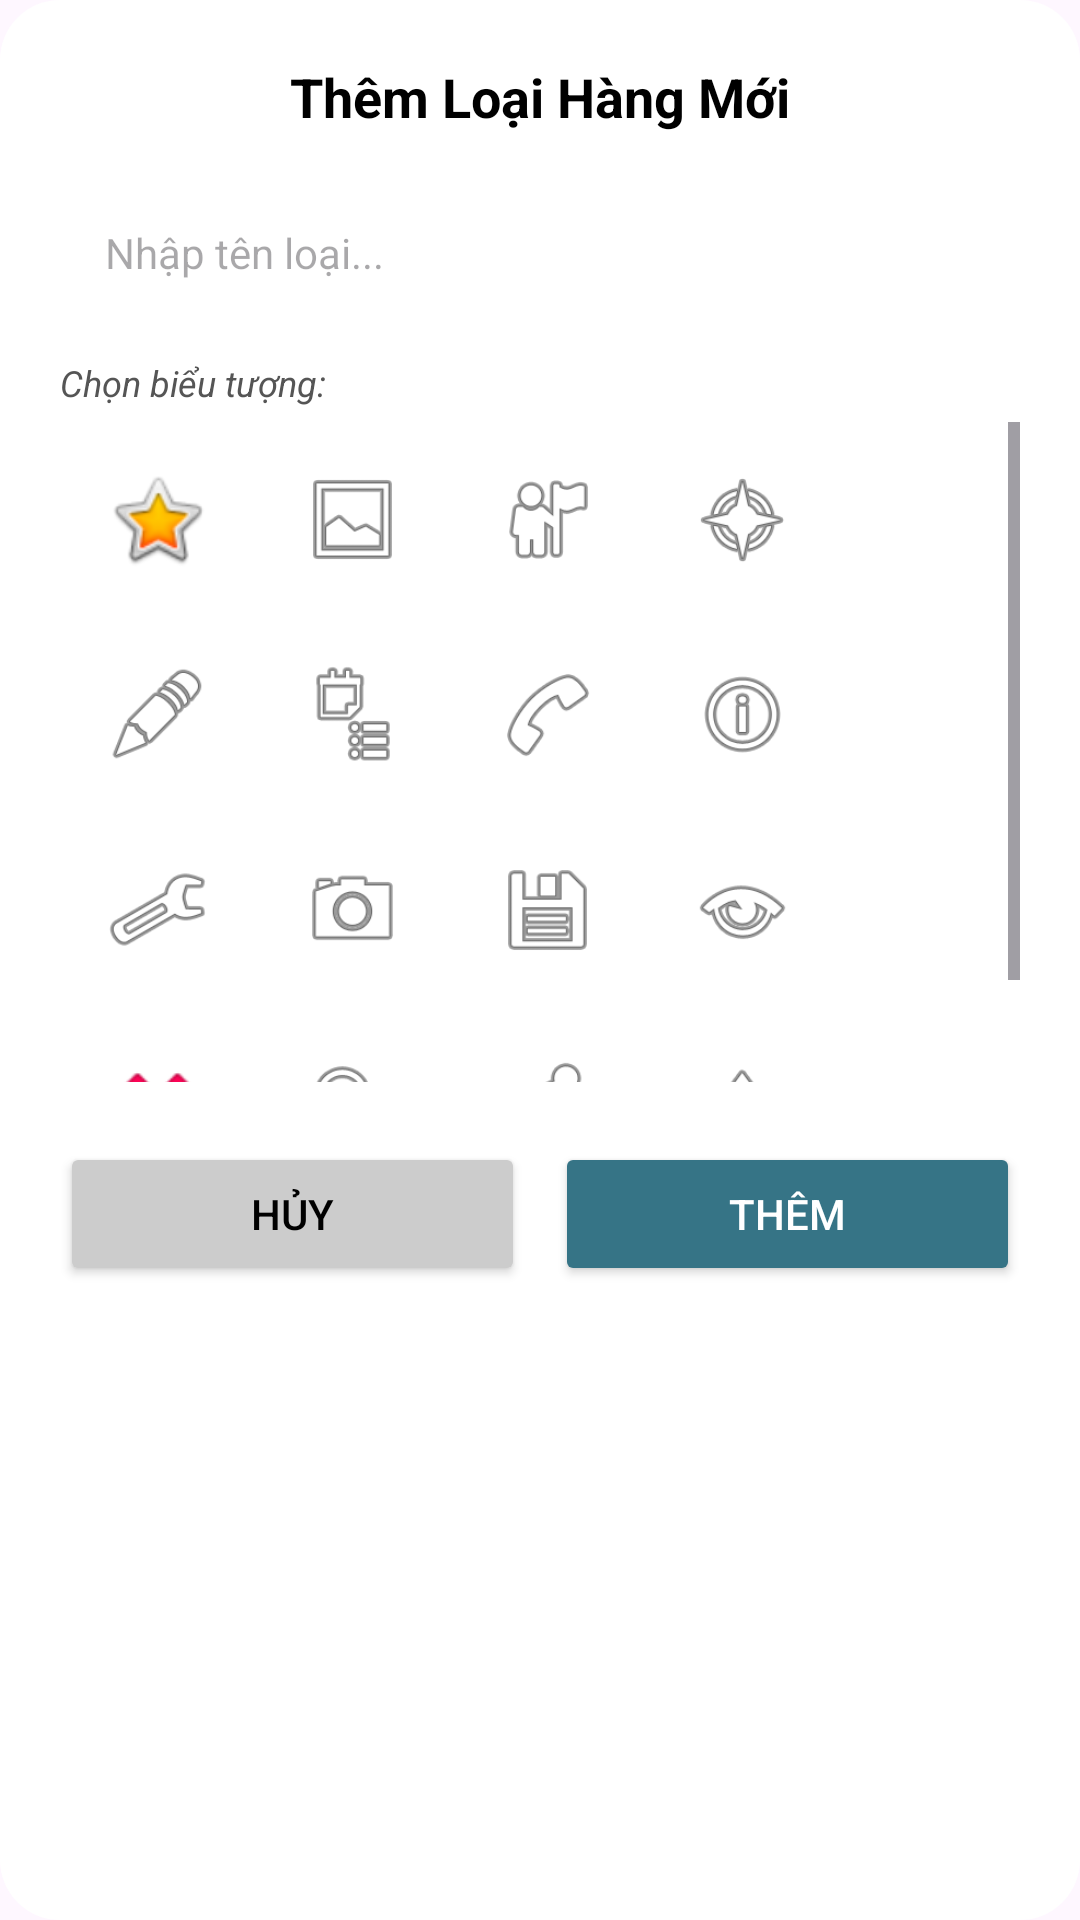

Named icons in this screenshot (1080*1920) and their bounding boxes, (x1=x1, y1=y1, x2=x2, y2=y2):
agenda: (x1=316, y1=667, x2=390, y2=761)
call: (x1=507, y1=674, x2=589, y2=756)
camera: (x1=312, y1=875, x2=393, y2=940)
compass: (x1=701, y1=479, x2=783, y2=561)
edit: (x1=113, y1=669, x2=202, y2=758)
gallery: (x1=313, y1=480, x2=392, y2=559)
info details: (x1=704, y1=677, x2=781, y2=752)
manage: (x1=110, y1=873, x2=205, y2=946)
myplaces: (x1=509, y1=480, x2=588, y2=559)
save: (x1=508, y1=870, x2=587, y2=950)
star on: (x1=114, y1=478, x2=202, y2=563)
view: (x1=700, y1=885, x2=785, y2=939)
